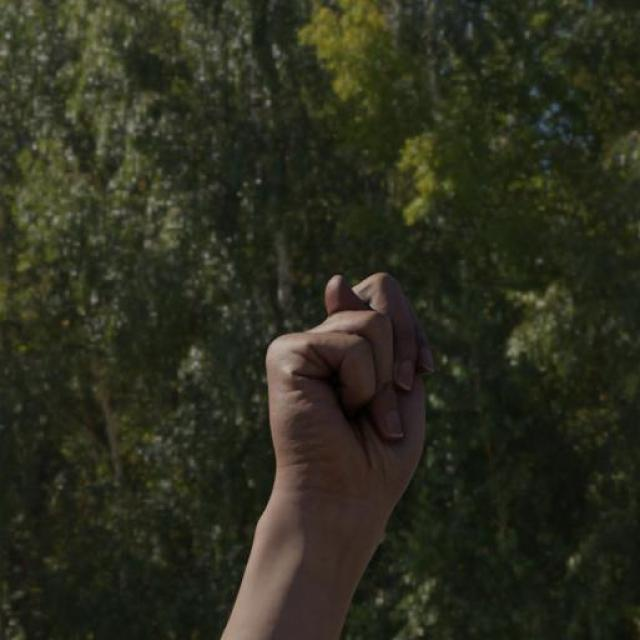N: (263, 264, 437, 521)
